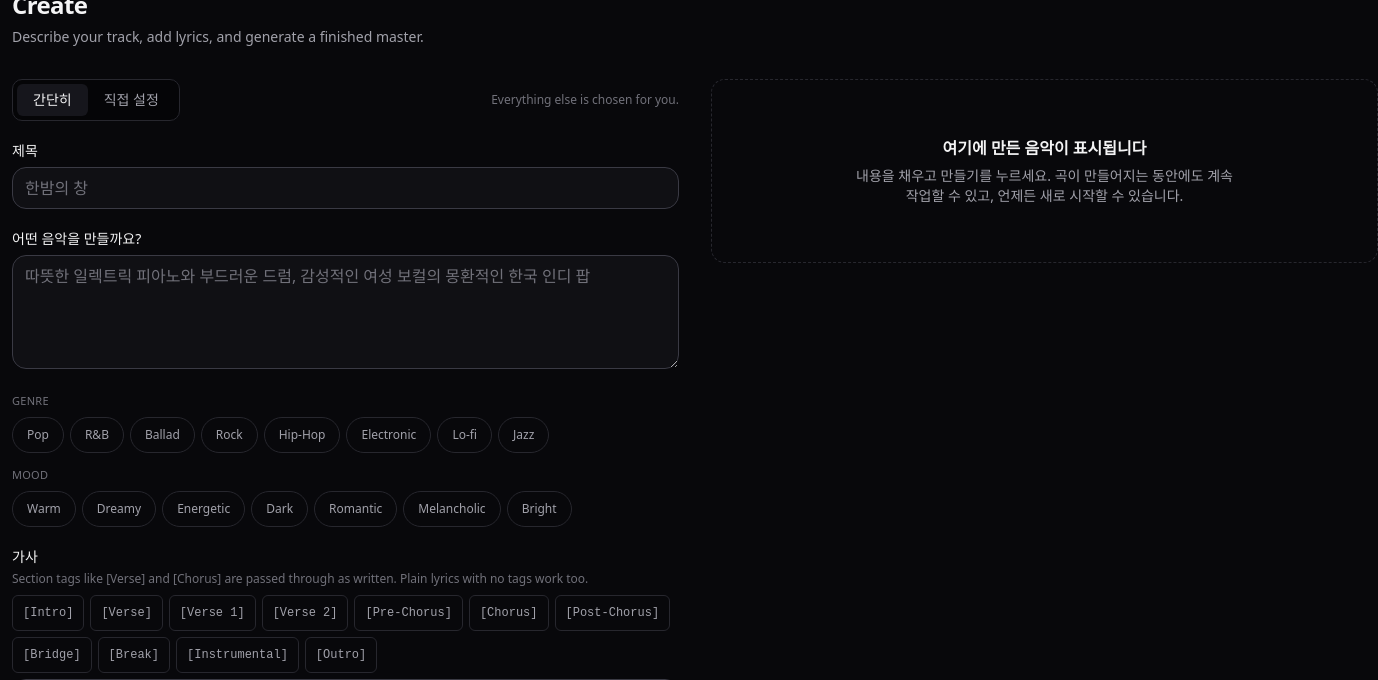
seed workflow › promises no deterministic audio
This screenshot has width=1378, height=680.
Step 1. Click the tab "직접 설정" → coordinates (131, 100), box [88, 84, 175, 116]
(page scrolled)
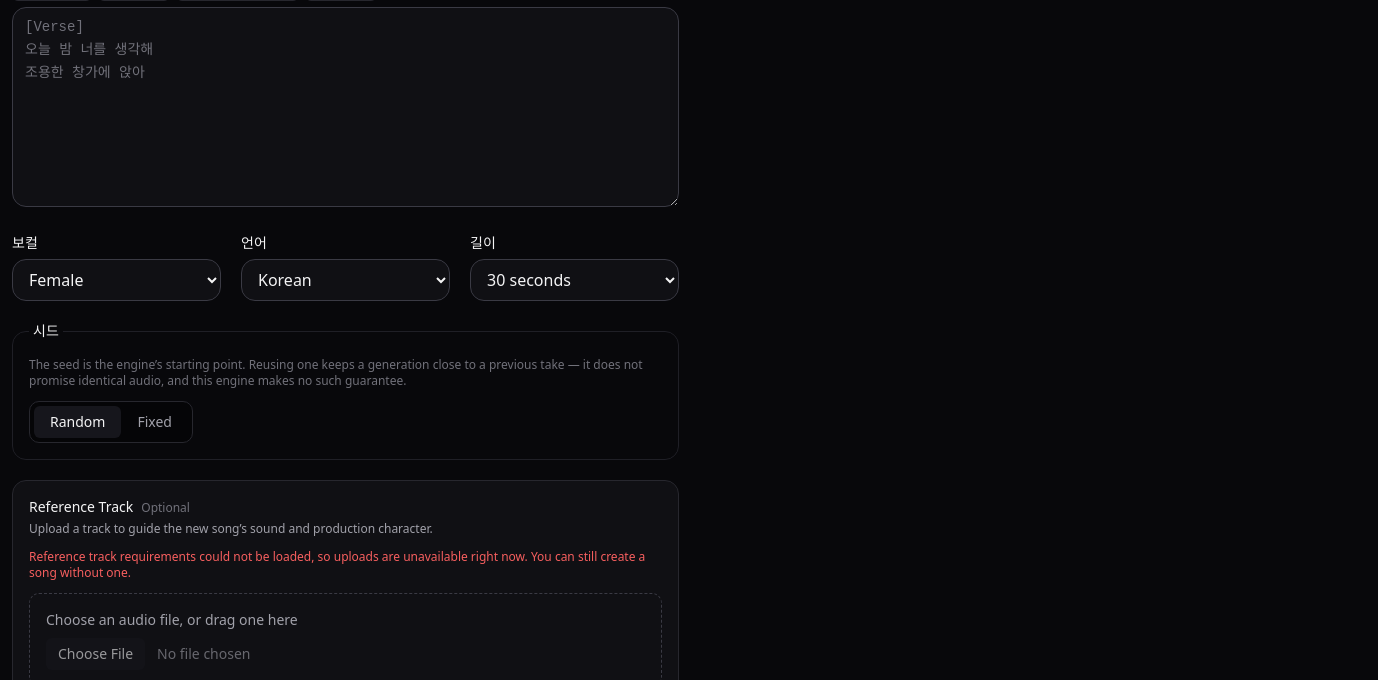
Check: the text "does not promise identical audio" is shown, box [29, 356, 643, 389]
